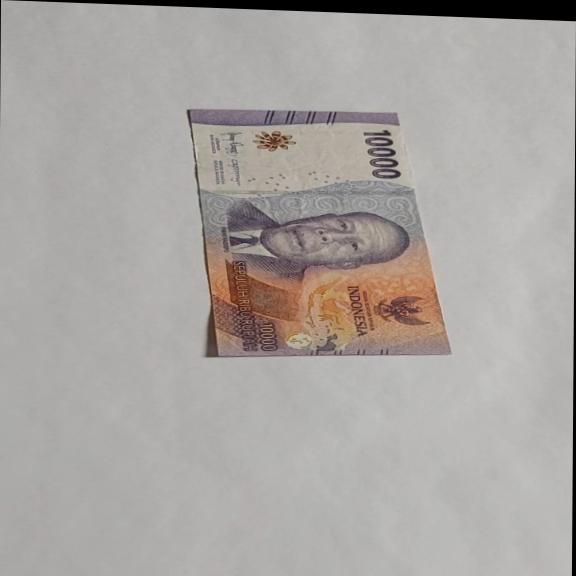Kertas: (184, 104, 454, 366), (361, 127, 403, 180)
